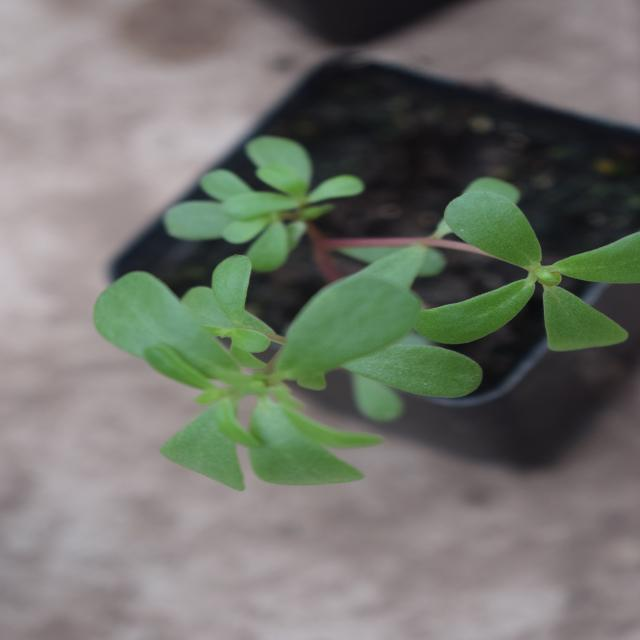purslane: (134, 110, 470, 617)
